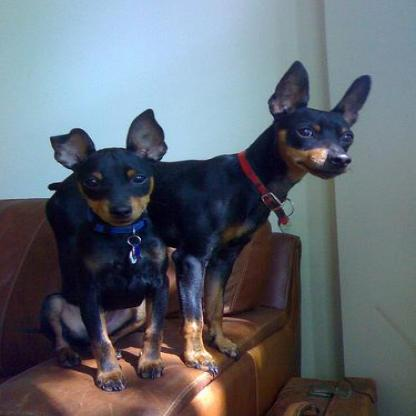miniature_pinscher: (169, 61, 372, 372), (49, 107, 167, 391)
